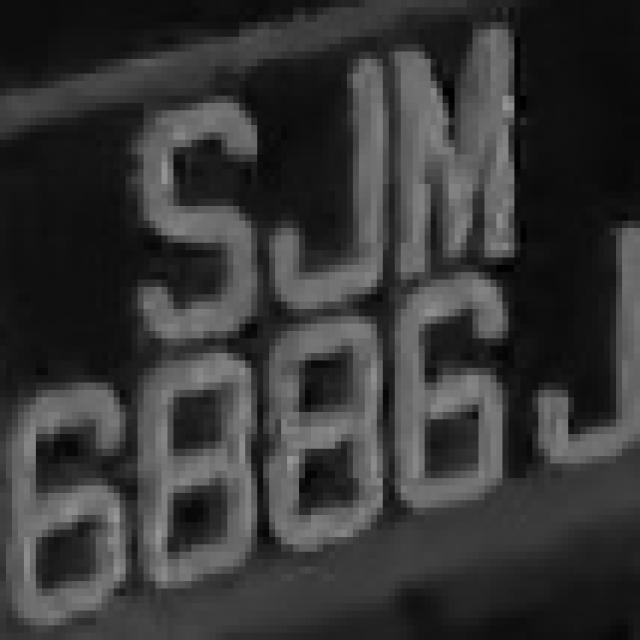6: (377, 258, 520, 530), (18, 368, 132, 610)
8: (245, 309, 389, 552), (126, 353, 257, 581)
J: (257, 66, 395, 316), (520, 228, 634, 456)
M: (365, 15, 526, 272)
S: (102, 81, 251, 338)
